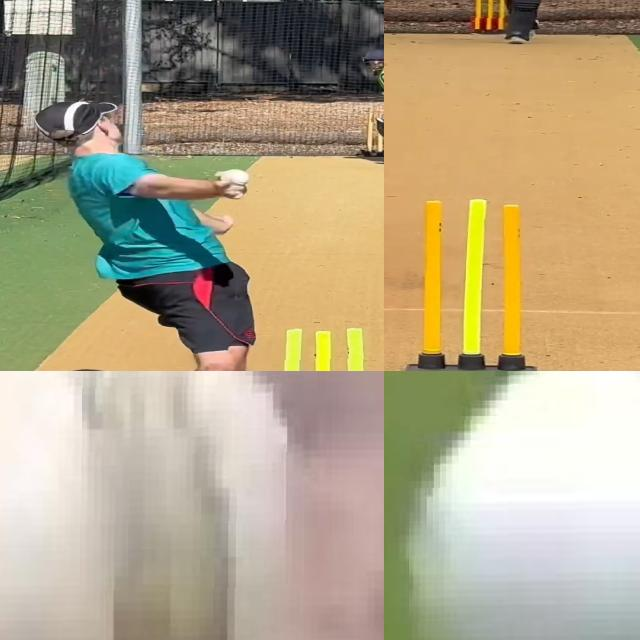Cricket ball: (0, 371, 305, 640), (408, 371, 640, 640)
Stumps: (403, 198, 540, 371), (261, 325, 384, 371), (475, 0, 505, 34)
